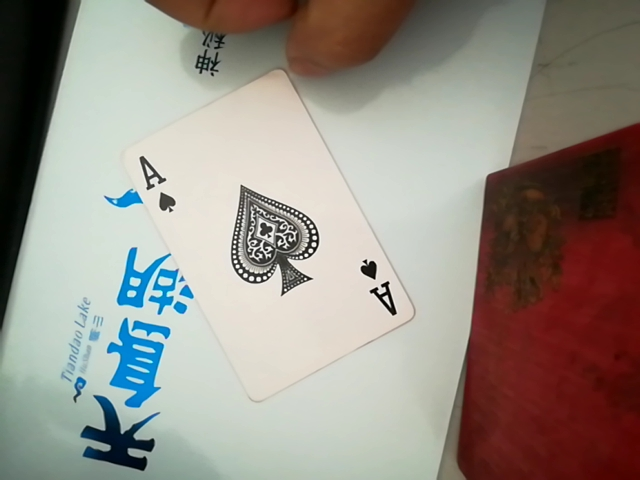ht a: (126, 52, 447, 430)
